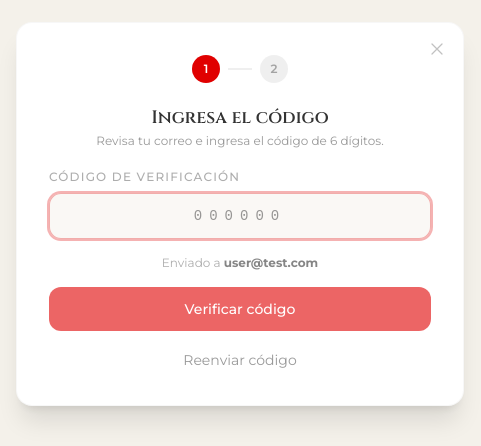
PasswordResetModal › transitions to step 2 after successful code verification
Step 1. Type "123456" into the field with placeholder "000000" → (240, 216), box [49,193,431,239]
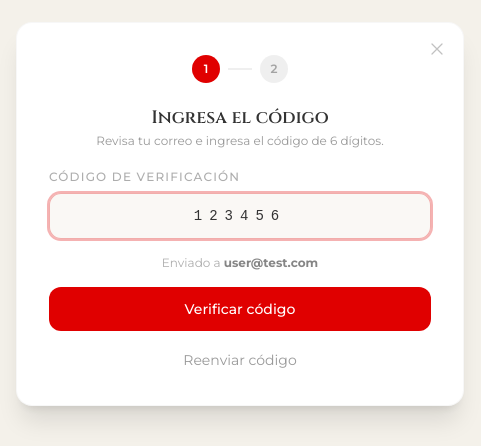
Step 2. Submit the form with placeholder "000000", box [49,169,431,373]
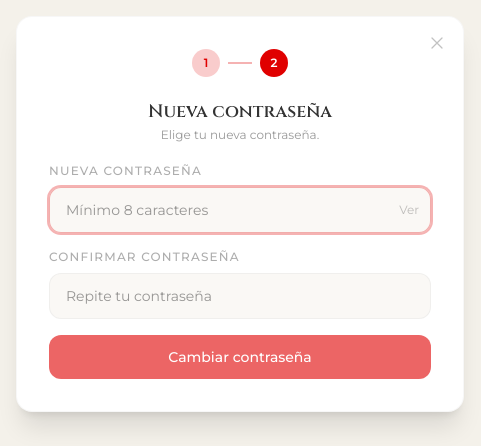
Expected: the heading "Nueva contraseña" is shown, [148,99,332,124]
Expected: the password field with placeholder "Mínimo 8 caracteres" is shown, [49,187,431,233]
